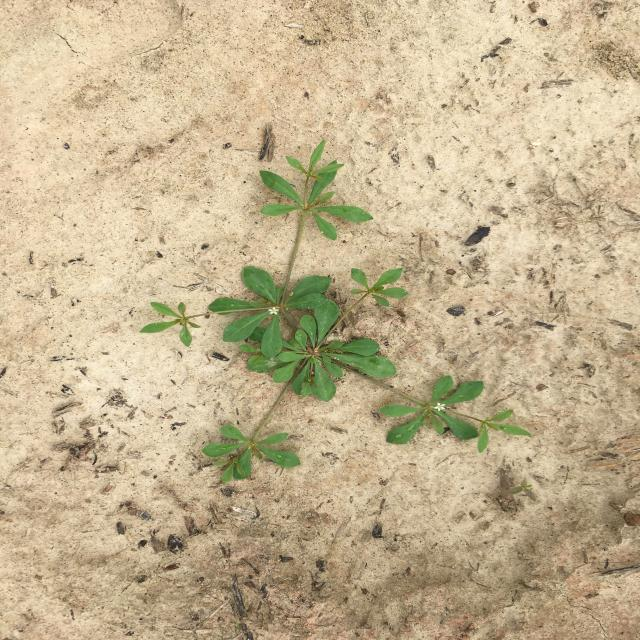Carpetweed: (139, 139, 531, 484)
